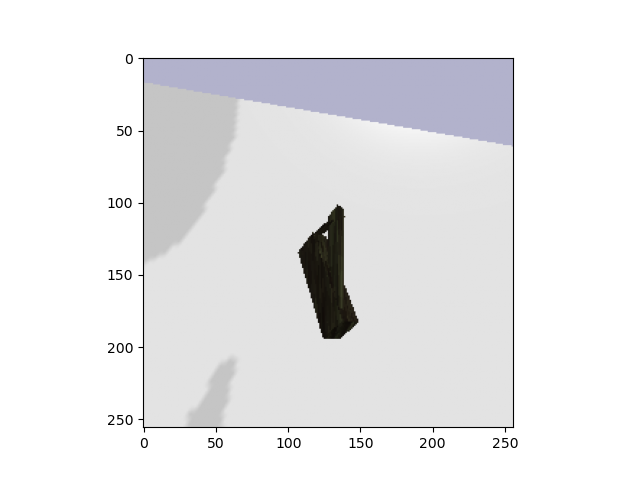v249b387_109: (282, 206, 377, 346)
